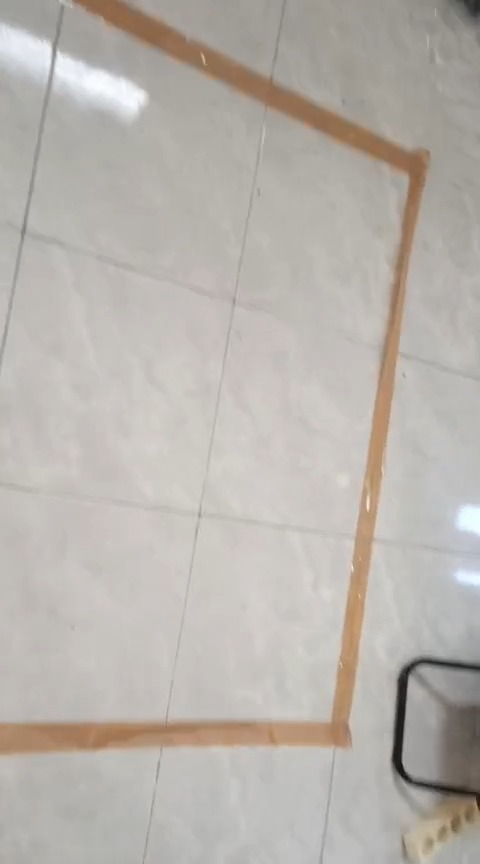floor marking: (0, 0, 428, 754)
